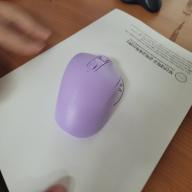mouse: (53, 48, 122, 142)
